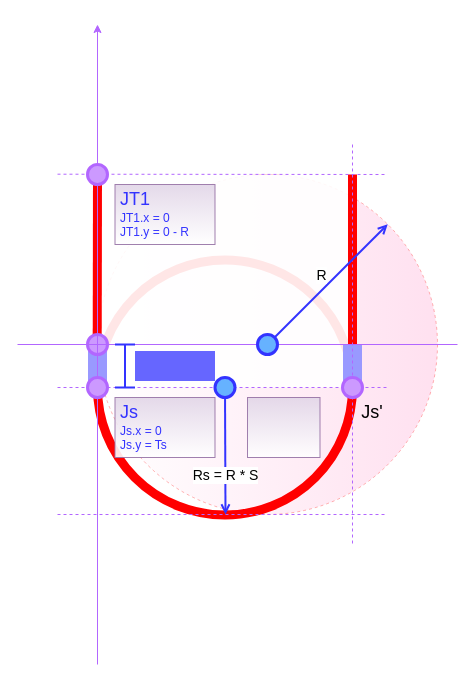
This 476x690 diagram has some shape labels left out. Here are the shapes that lost their labels. From the top down, the centre of each, then its label:
point 174,365: Ts = R - Rs
point 283,427: O1 O1.x = Rs O1.y = Ts
